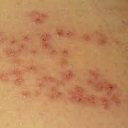Chickenpox: (5, 30, 59, 105), (64, 68, 122, 110), (64, 28, 76, 40), (31, 11, 43, 23)
